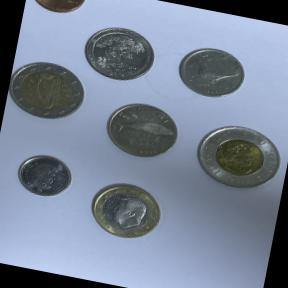coin: (186, 113, 288, 200), (79, 170, 173, 250), (3, 53, 92, 128), (98, 94, 186, 168), (76, 19, 163, 88), (9, 145, 79, 205), (23, 0, 88, 21)
